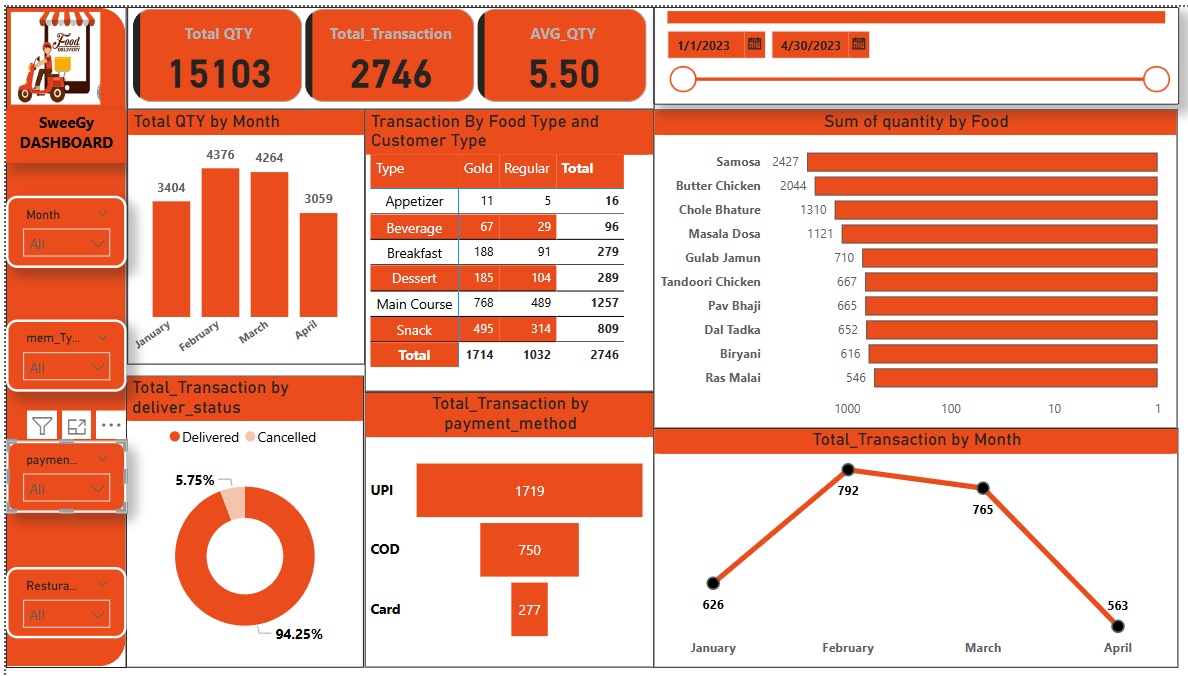

This screenshot's page, from the dashboard's own definition file:
{"tool":"powerbi","page":{"name":"Page 1","canvas":[1280,720],"ordinal":0},"visuals":[{"type":"shape","box":[0,0,117.8,644.4],"z":0},{"type":"image","box":[0,0,96.7,100],"z":1000},{"type":"textbox","box":[0,100,117.8,52.2],"z":2000},{"type":"cardVisual","title":"Tr","fields":{"Data":["Sales_Data.Total QTY","Sales_Data.Total_Transaction","Sales_Data.AVG_QTY"]},"box":[117.8,0,514.4,100],"z":3000},{"type":"clusteredColumnChart","fields":{"Y":["Sales_Data.Total QTY"],"Category":["Sales_Data.orderDate.Variation.Date Hierarchy.Month"]},"box":[117.8,100,232.2,248.9],"z":4000},{"type":"pivotTable","title":"Transaction By Food Type and Customer Type","fields":{"Rows":["Food_Details.Type"],"Columns":["Customer Details.member_Type"],"Values":["Sales_Data.Total_Transaction"]},"box":[350,100,282.2,248.9],"z":5000},{"type":"donutChart","fields":{"Category":["Sales_Data.deliver_status"],"Y":["Sales_Data.Total_Transaction"]},"box":[117.8,360,271.1,284.4],"z":5001},{"type":"funnel","fields":{"Category":["Sales_Data.payment_method"],"Y":["Sales_Data.Total_Transaction"]},"box":[388.9,360,243.3,284.4],"z":5002},{"type":"barChart","fields":{"Category":["Food_Details.Food"],"Y":["Sum(Sales_Data.quantity)"]},"box":[632.2,100,511.1,311.1],"z":5003},{"type":"lineChart","fields":{"Y":["Sales_Data.Total_Transaction"],"Category":["Sales_Data.orderDate.Variation.Date Hierarchy.Year","Sales_Data.orderDate.Variation.Date Hierarchy.Month"]},"box":[632.2,411.1,512.2,233.3],"z":5004},{"type":"slicer","fields":{"Values":["Sales_Data.orderDate.Variation.Date Hierarchy.Month"]},"box":[0,174.4,117.8,70],"z":5005},{"type":"slicer","fields":{"Values":["Customer Details.member_Type"]},"box":[0,265.6,117.8,70],"z":5006},{"type":"slicer","fields":{"Values":["Sales_Data.payment_method"]},"box":[0,375.6,117.8,70],"z":5007},{"type":"slicer","fields":{"Values":["Resturant_Details.Resturant_type"]},"box":[0,482.2,117.8,70],"z":5008},{"type":"slicer","fields":{"Values":["Sales_Data.orderDate"]},"box":[632,0,513,95],"z":5009}]}

Visuals, with their boxes in screenshot pixels (x1, y1, x2, y2), scaled from the page's 1280x720 canvas onto the 1188x676 screenshot:
shape: 0:0:109:605
image: 0:0:90:94
textbox: 0:94:109:143
"Tr" cardVisual: 109:0:587:94
clusteredColumnChart - Sales_Data.Total QTY x Sales_Data.orderDate.Variation.Date Hierarchy.Month: 109:94:325:328
"Transaction By Food Type and Customer Type" pivotTable: 325:94:587:328
donutChart - Sales_Data.deliver_status x Sales_Data.Total_Transaction: 109:338:361:605
funnel - Sales_Data.payment_method x Sales_Data.Total_Transaction: 361:338:587:605
barChart - Food_Details.Food x Sum(Sales_Data.quantity): 587:94:1061:386
lineChart - Sales_Data.Total_Transaction x Sales_Data.orderDate.Variation.Date Hierarchy.Year: 587:386:1062:605
slicer - Sales_Data.orderDate.Variation.Date Hierarchy.Month: 0:164:109:229
slicer - Customer Details.member_Type: 0:249:109:315
slicer - Sales_Data.payment_method: 0:353:109:418
slicer - Resturant_Details.Resturant_type: 0:453:109:518
slicer - Sales_Data.orderDate: 587:0:1063:89
